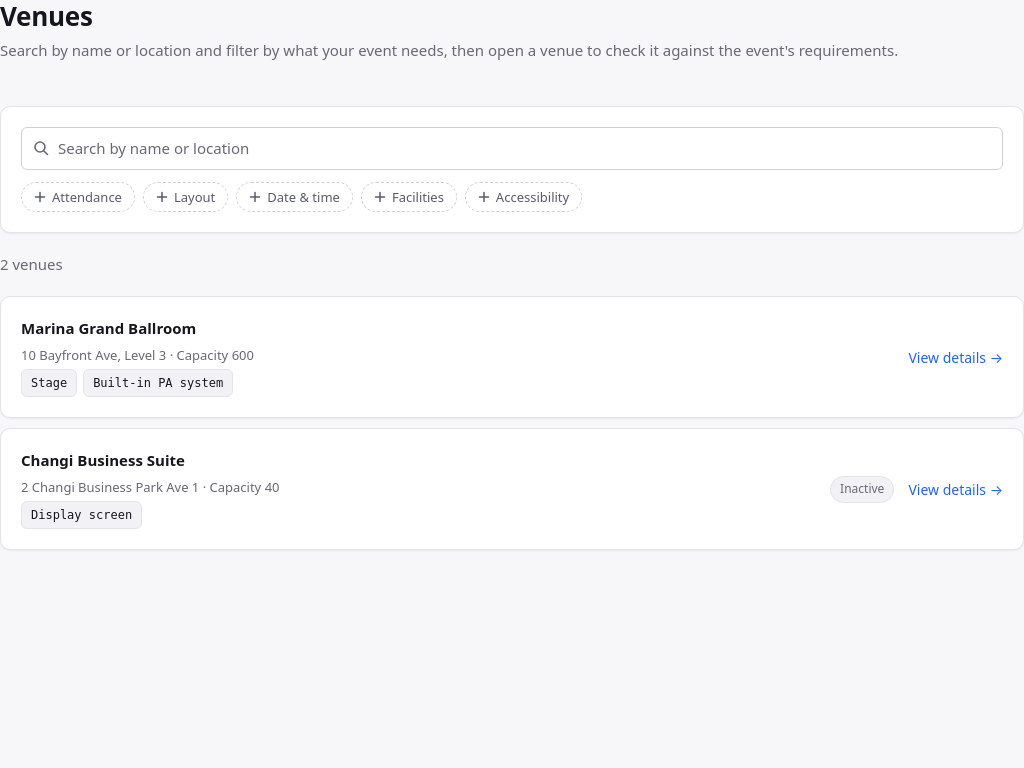
the filter bar › clears the keyword and every filter with "Clear all"
Check: the text "Marina Grand Ballroom" is shown, box [21,318,196,338]
Check: the button "Clear all" is not shown
In the field named "Search venues": (512, 148) [21,127,1003,170], type "marina"
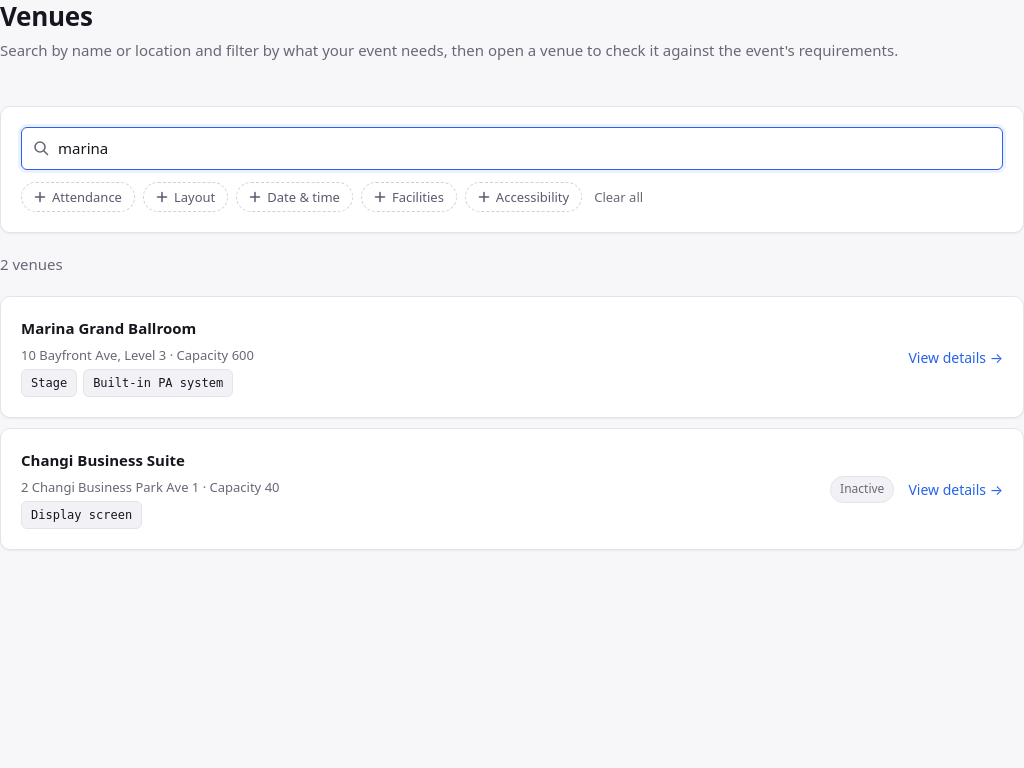
Click the button "Facilities": (409, 197) [361,182,457,212]
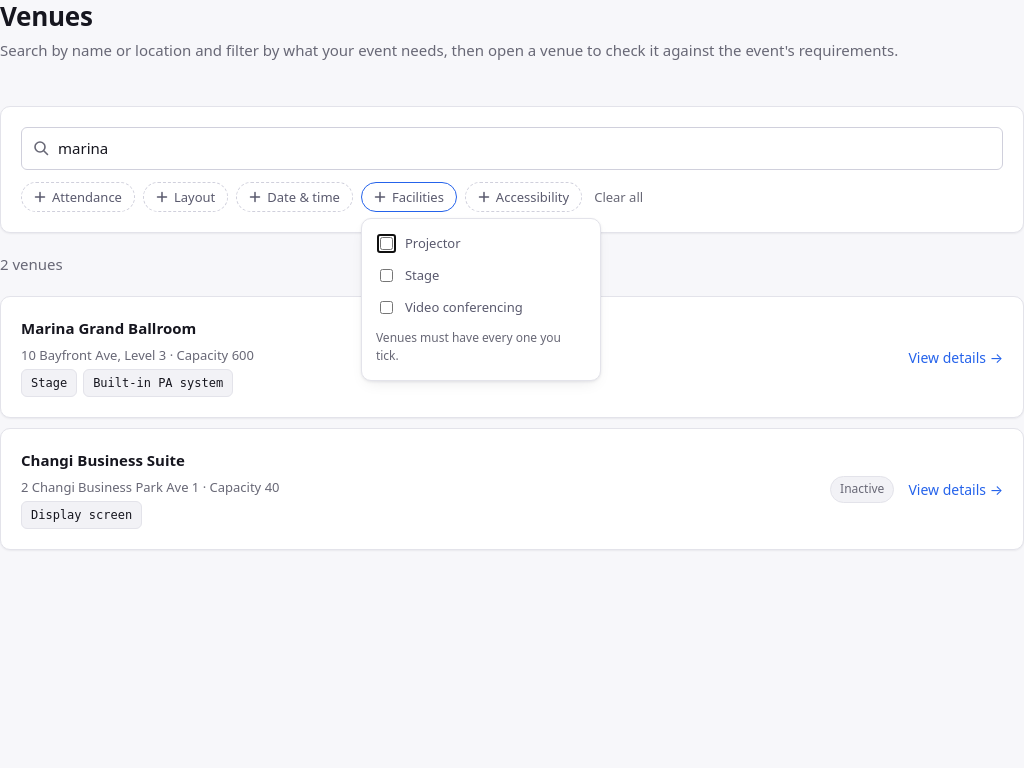
Click the checkbox labelled "Stage": (386, 275) [380,269,393,282]
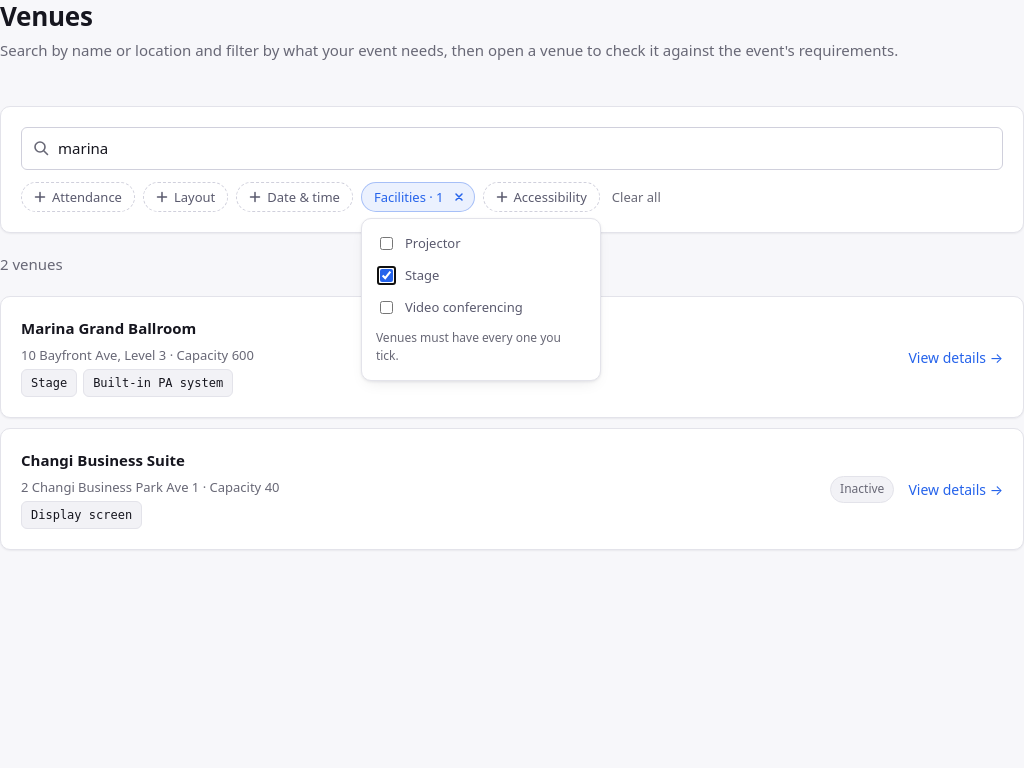
Click the button "Clear all": (636, 197) [612,187,661,207]
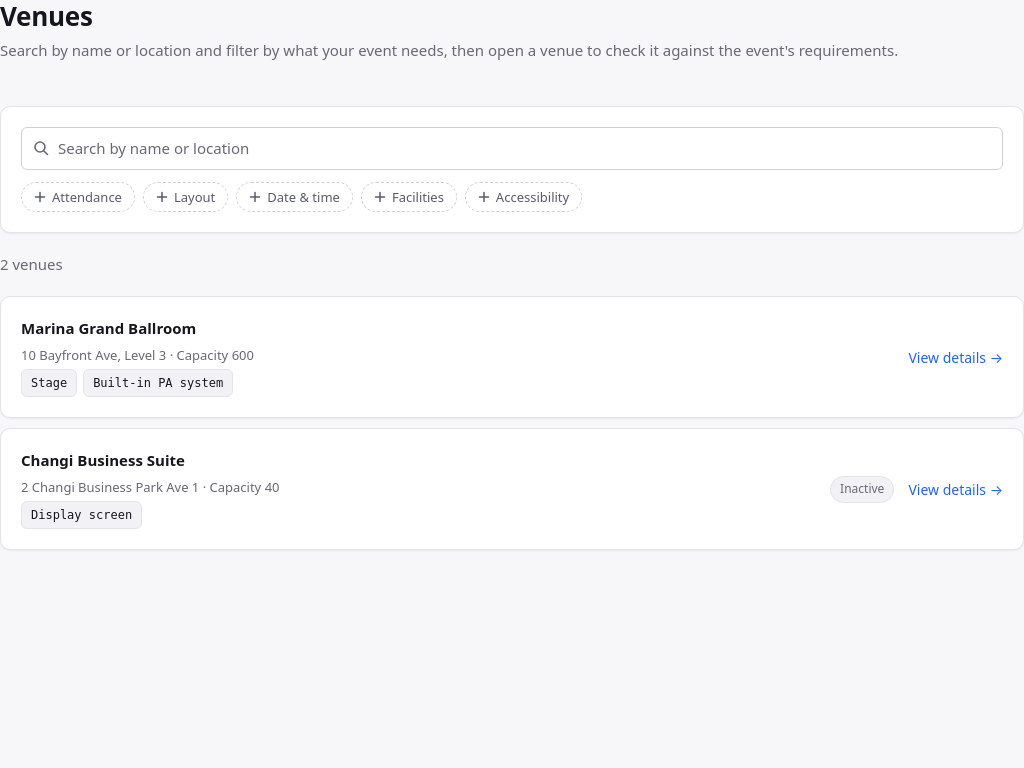
Check: the field named "Search venues" is empty, box [21,127,1003,170]
Check: the button "Clear all" is gone
